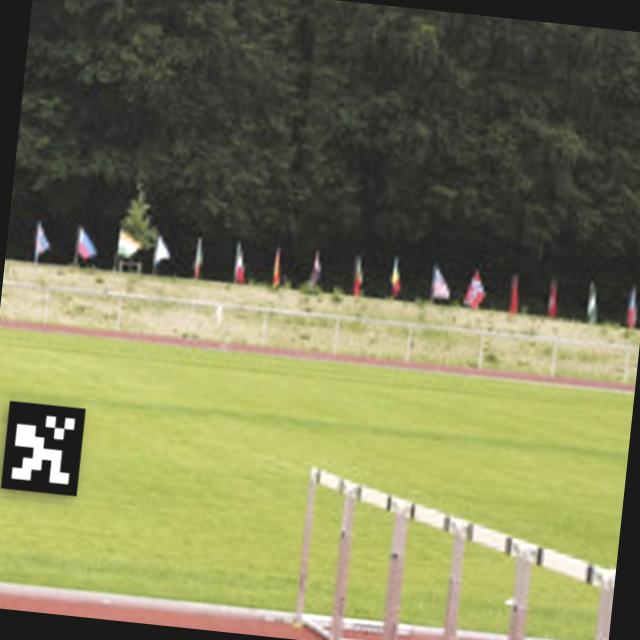marker: (0, 386, 93, 505)
